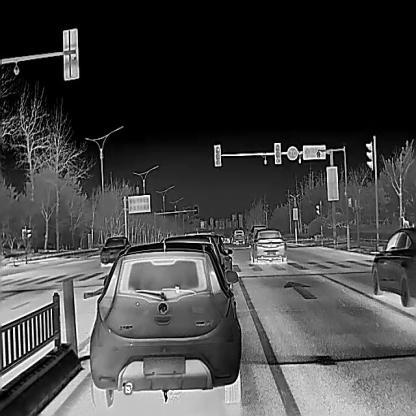car: (85, 241, 241, 407), (370, 227, 415, 306), (161, 235, 232, 276), (183, 231, 232, 259), (249, 230, 287, 262), (99, 235, 131, 264), (248, 225, 265, 247), (232, 229, 245, 245)
